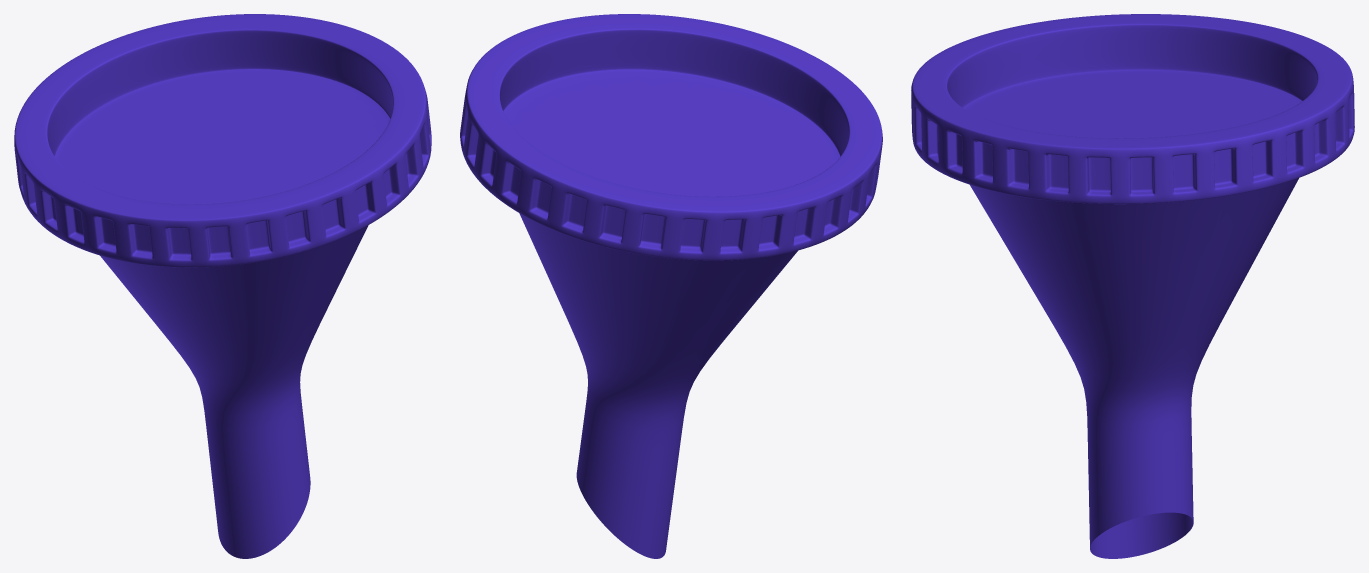
The model's file is filter-3d-icon-296818112298.glb.
3 renders of one model, left to right at view 1: azimuth 30°, elevation 25°; view 2: azimuth 150°, elevation 25°; view 3: azimuth 270°, elevation 25°, orthographic. The views are drawn at different scales.
Visible parts, largest first — view 1: Filter; view 2: Filter; view 3: Filter.
Boxes of the visible parts, box(x1,y1,x2,y2) form: Filter: box(14, 14, 431, 558); Filter: box(460, 14, 882, 558); Filter: box(911, 14, 1354, 558).
Size of the model in its own units: 1.55 by 1.91 by 1.55.
